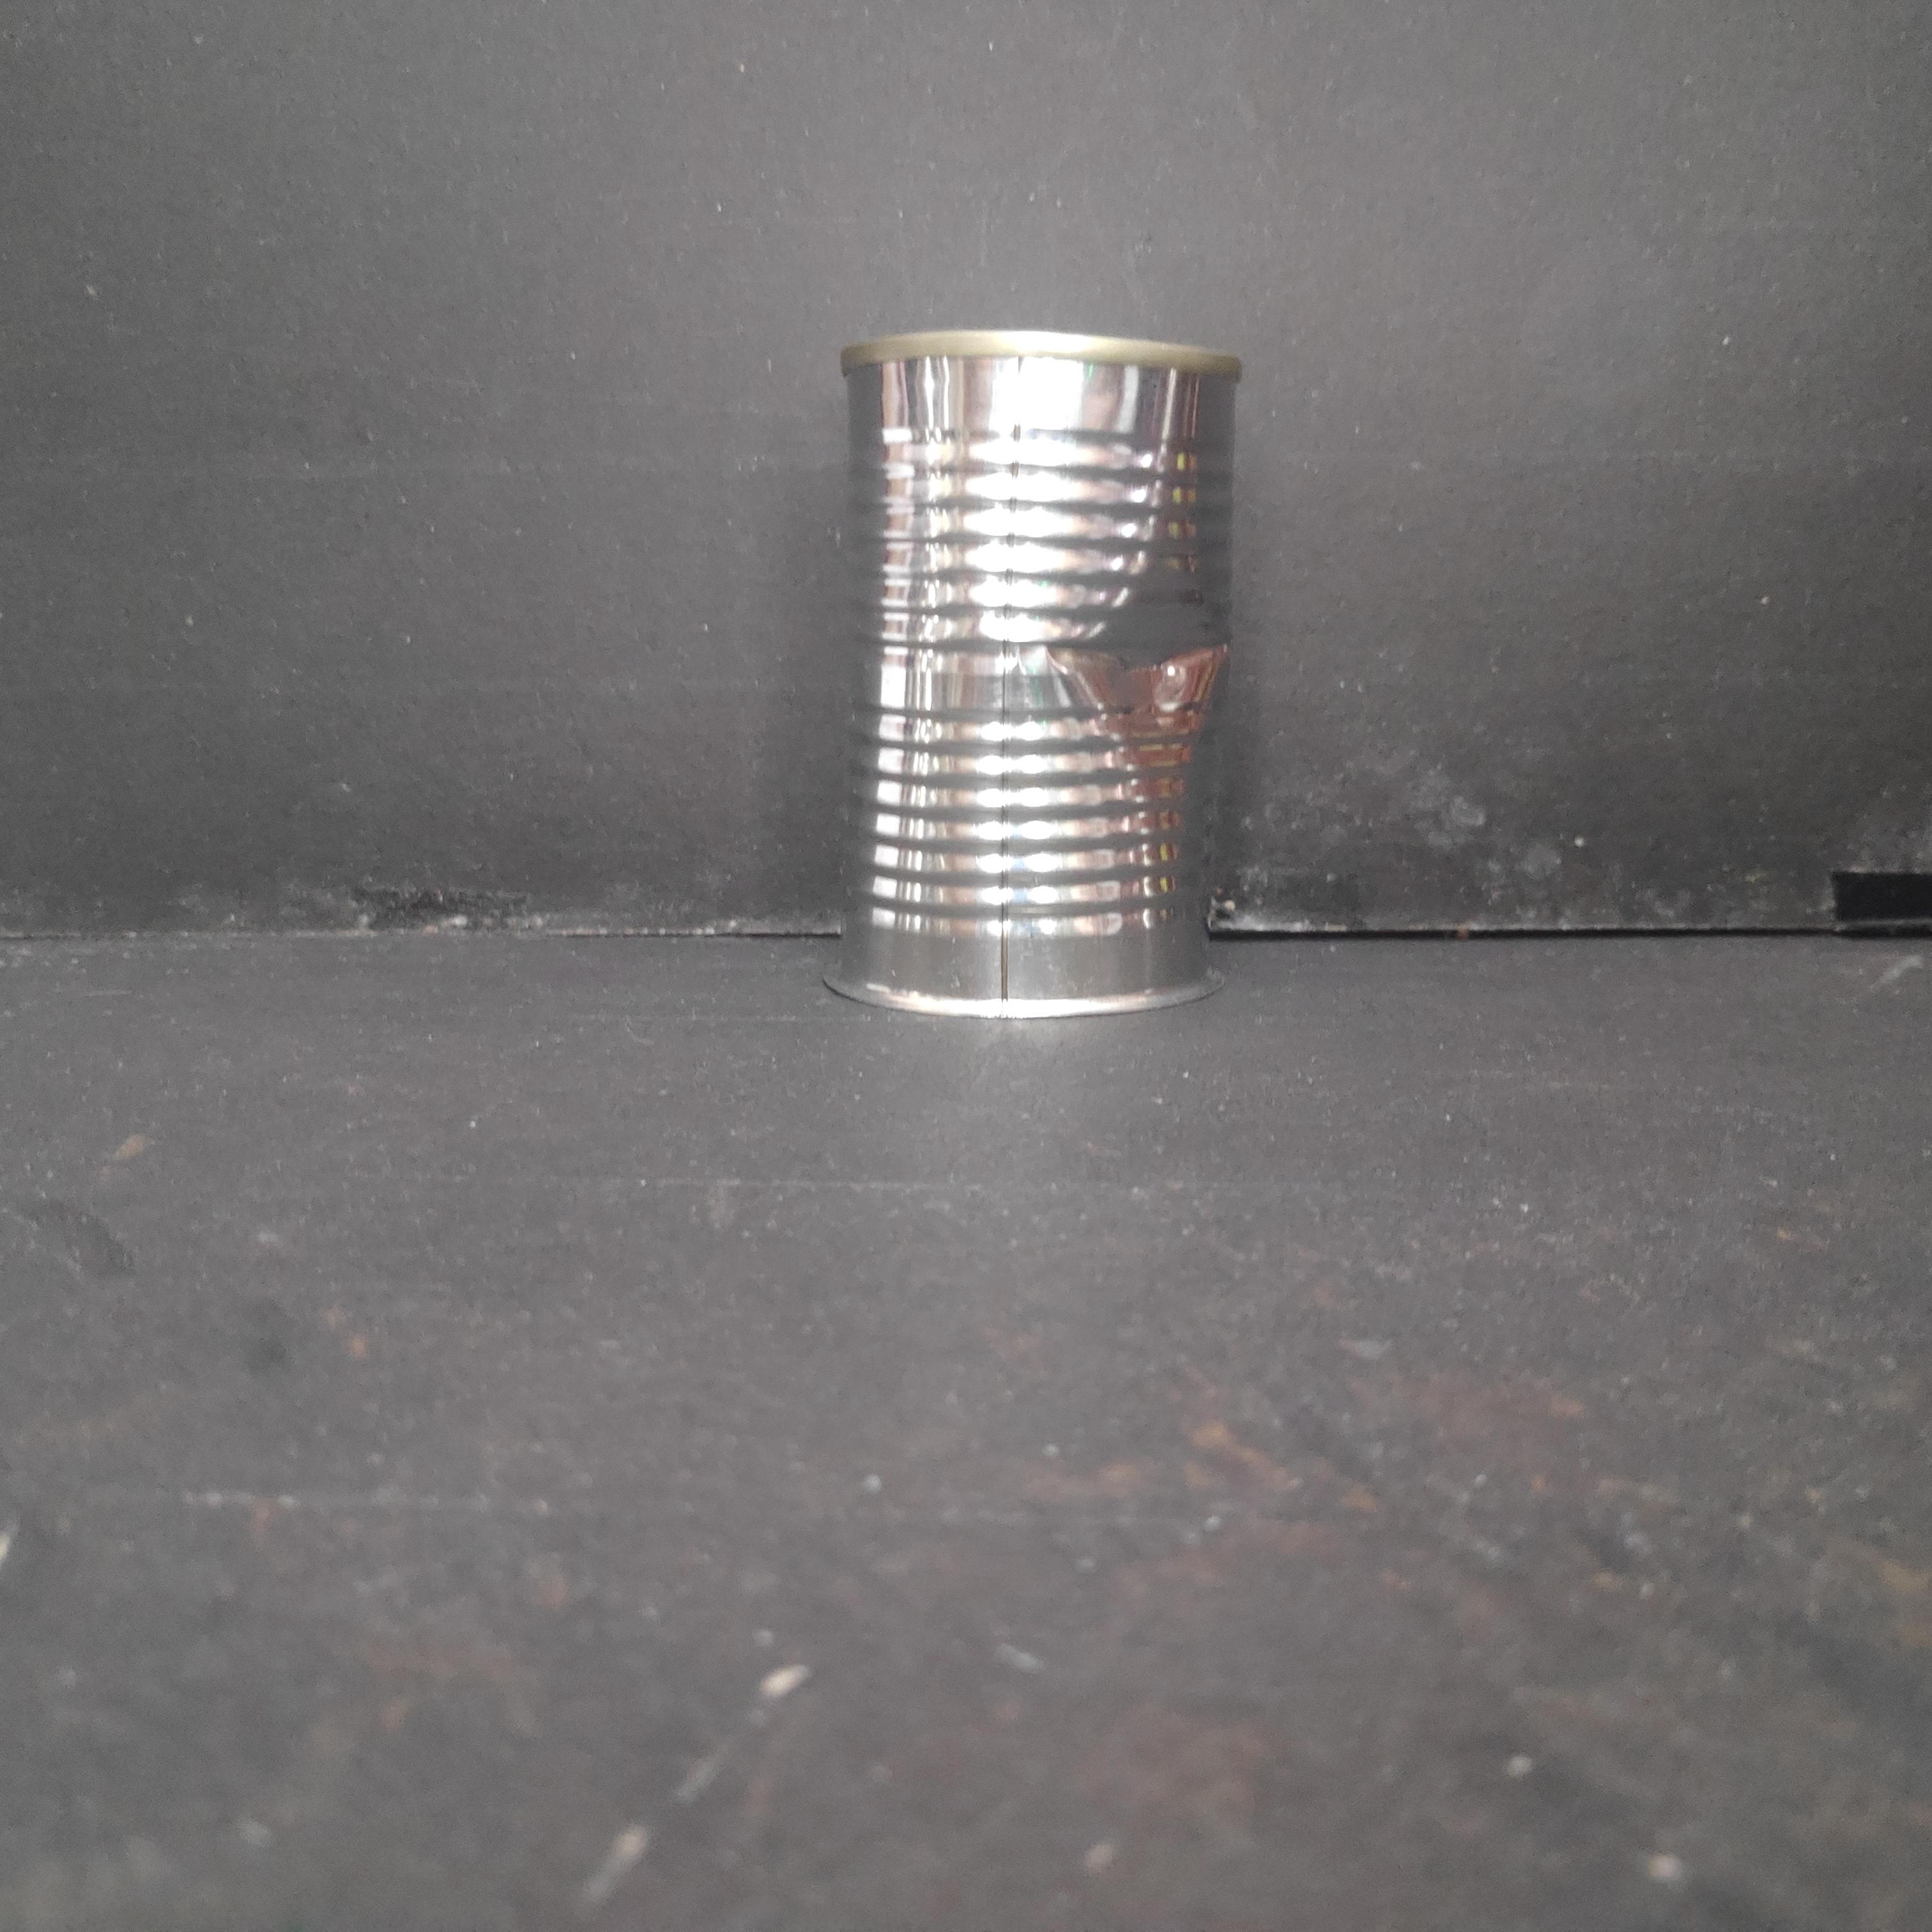Minor Defect: (819, 320, 1253, 1028)
